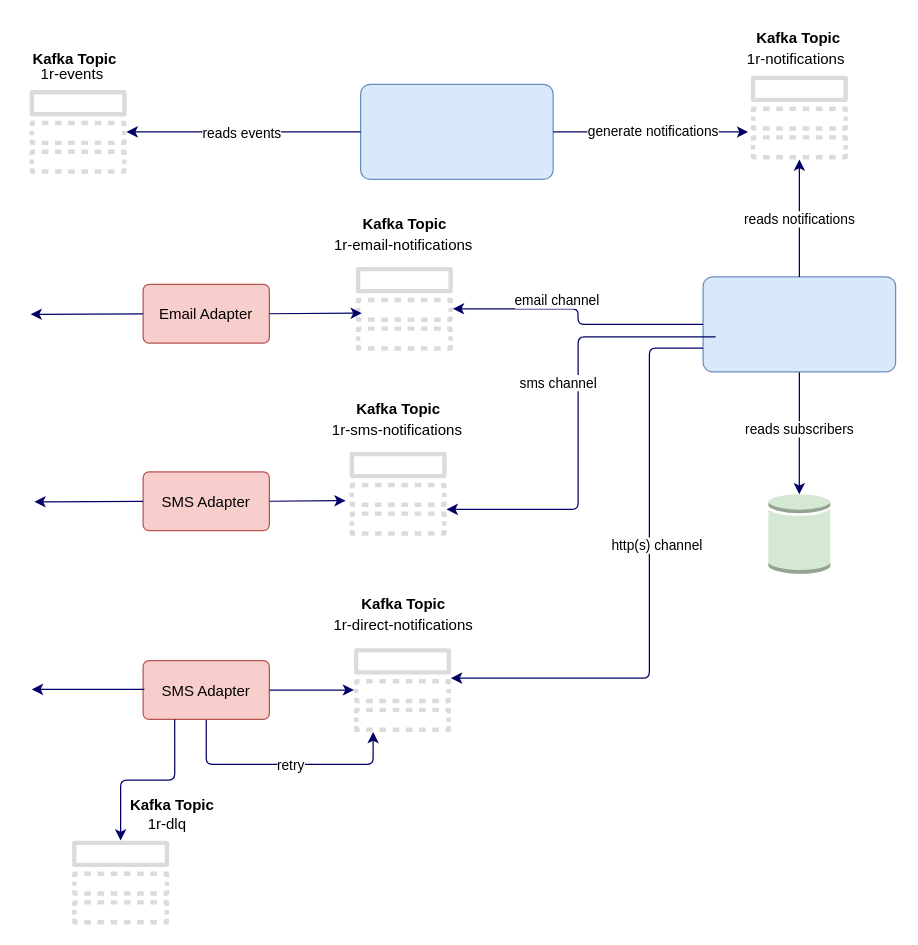
This 918x945 diagram has some shape labels left out. The shapes that lost their labels are listed below. From the top down, each one's centre as x and y in pixels, then its label:
pixel 456 131: M1
pixel 799 324: M2
